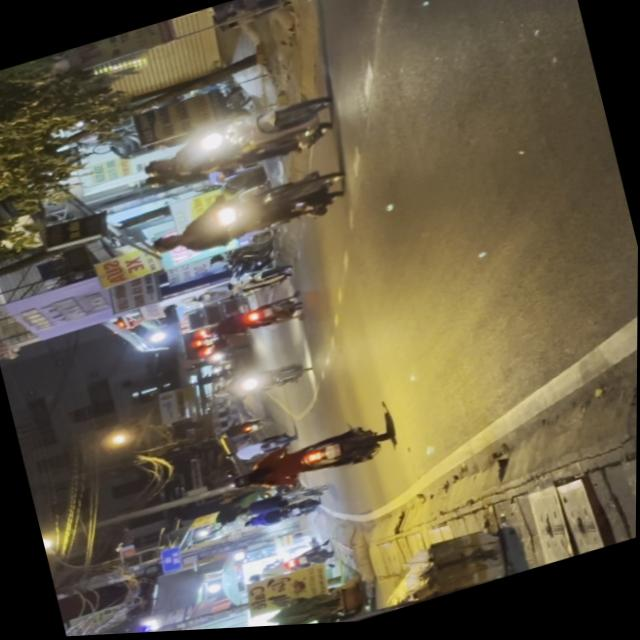helmet: (144, 231, 182, 259), (137, 155, 174, 182)
licenseplate: (138, 161, 354, 273), (130, 91, 341, 203)
